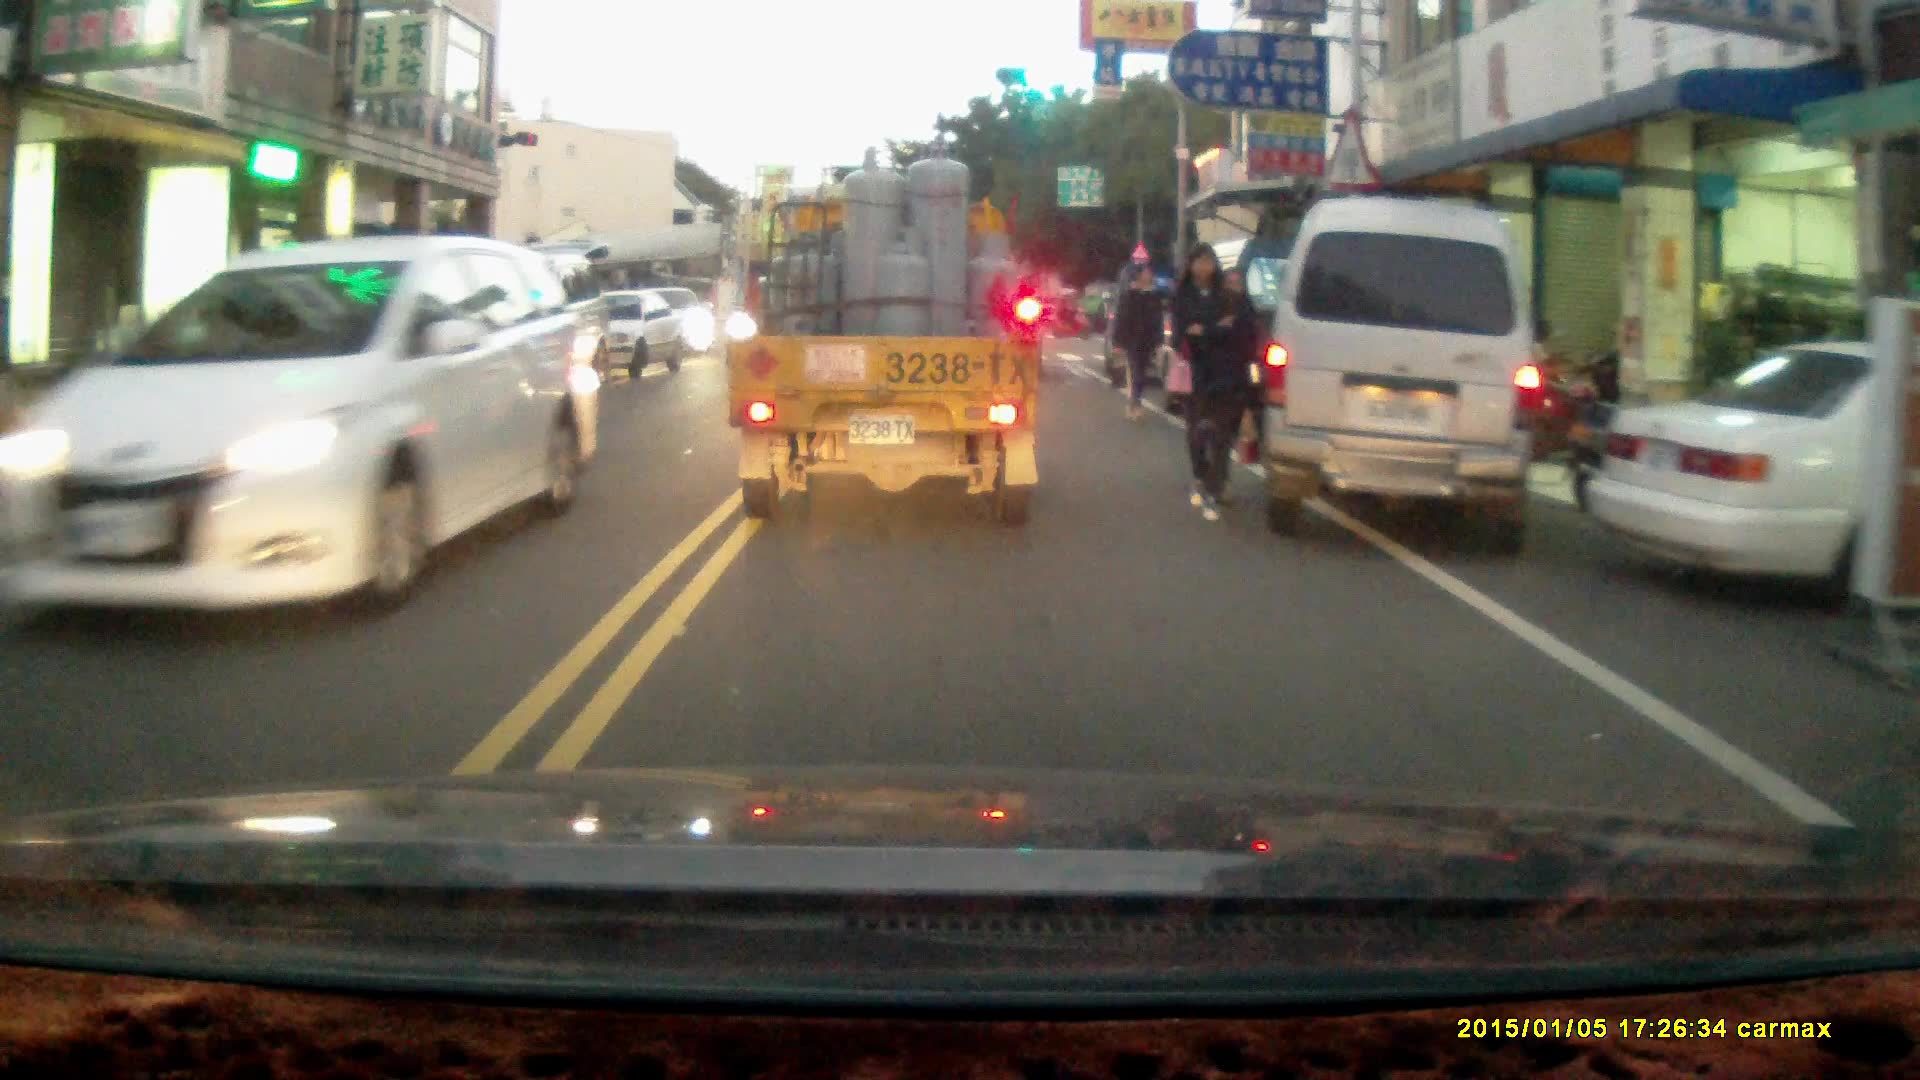pedestrian: (1166, 241, 1242, 525), (1112, 260, 1165, 423)
rider: (1050, 288, 1091, 341)
vehicle: (7, 238, 589, 621), (720, 139, 1049, 530), (1253, 197, 1547, 556), (1584, 338, 1920, 617), (543, 287, 687, 386)
